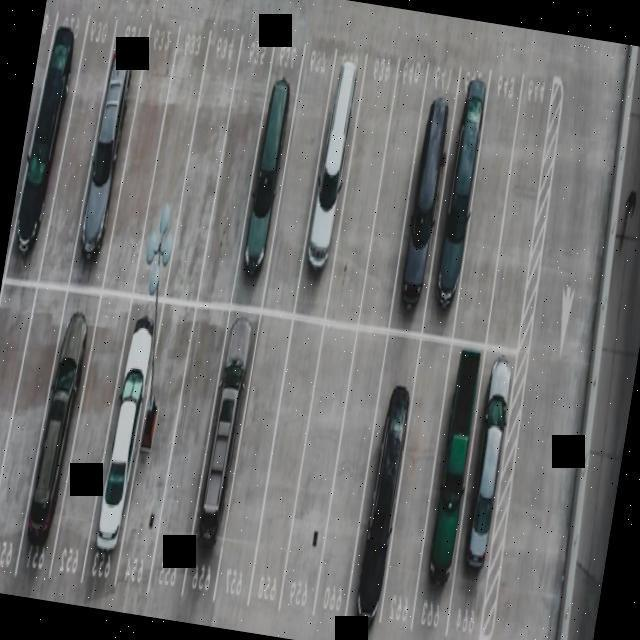space-empty: (213, 304, 299, 616), (276, 326, 355, 640), (377, 338, 456, 633), (148, 314, 227, 609), (248, 321, 326, 619), (164, 27, 241, 318), (313, 335, 391, 622), (51, 306, 129, 593), (487, 65, 565, 340), (327, 40, 405, 315), (453, 81, 529, 352), (41, 8, 115, 286), (0, 288, 65, 596), (265, 39, 339, 306), (201, 50, 271, 311), (363, 58, 431, 324), (137, 31, 203, 280), (108, 35, 172, 284), (0, 283, 33, 590)
space-occupied: (111, 299, 195, 604), (230, 14, 311, 318), (446, 349, 528, 640), (88, 296, 164, 594), (389, 60, 466, 354), (21, 281, 96, 579), (415, 335, 487, 625), (421, 68, 497, 339), (185, 323, 257, 609), (11, 2, 86, 269), (71, 17, 143, 291), (349, 342, 418, 615), (295, 48, 364, 302)
